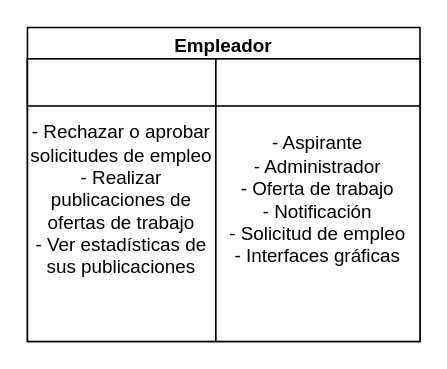
Image size: 447x369. Some labels were removed from this diagram. Each missing label, with the centre of its shape:
"Collaboration" goes at point 317,81.
"Responsabilities" goes at point 121,81.
